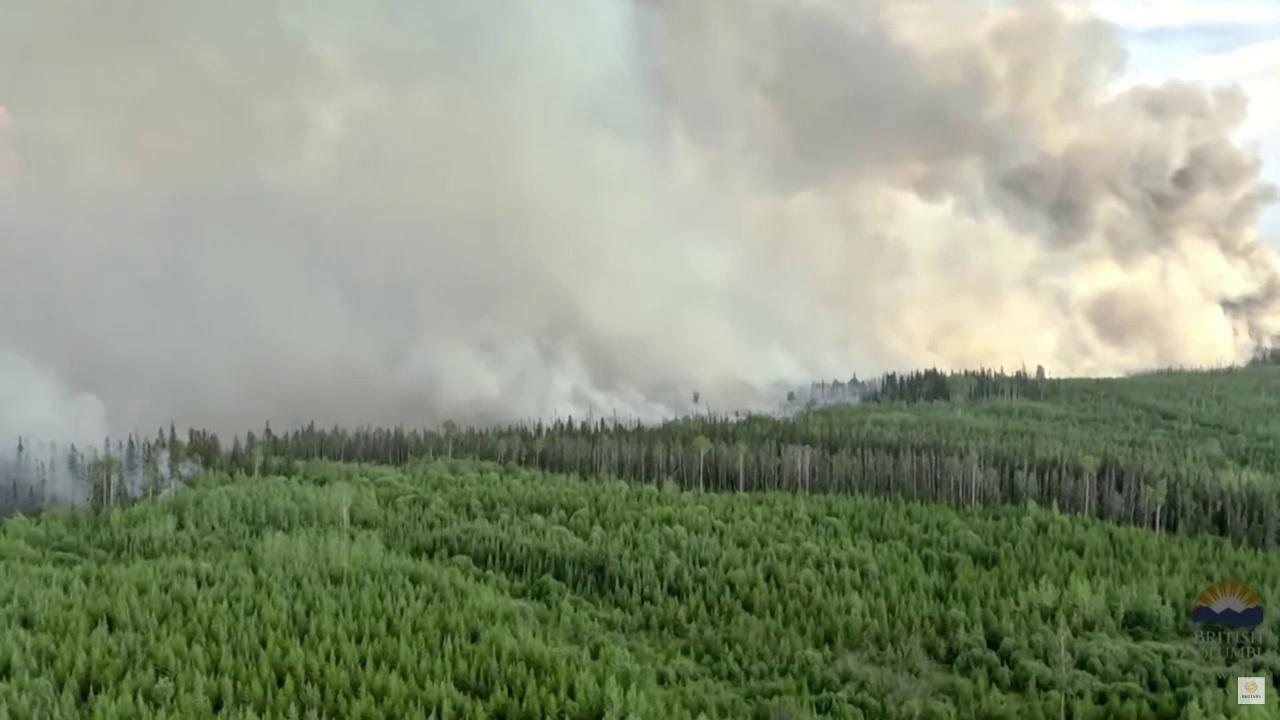smoke: (0, 0, 1280, 521)
